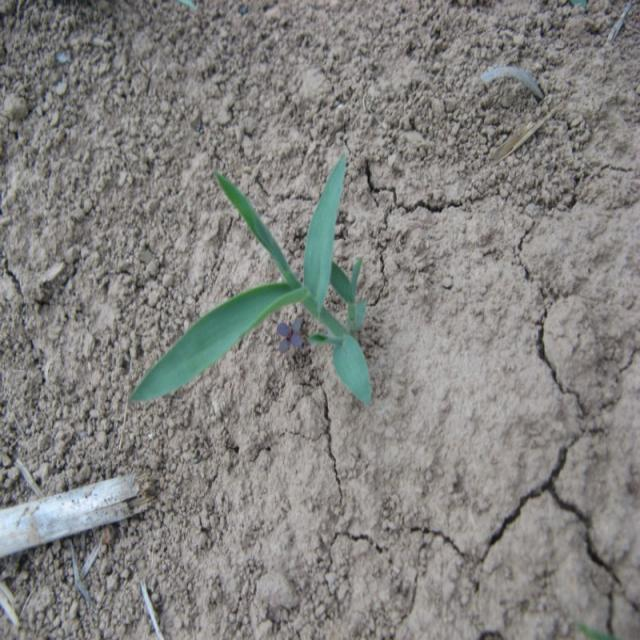bg: (126, 154, 396, 412)
